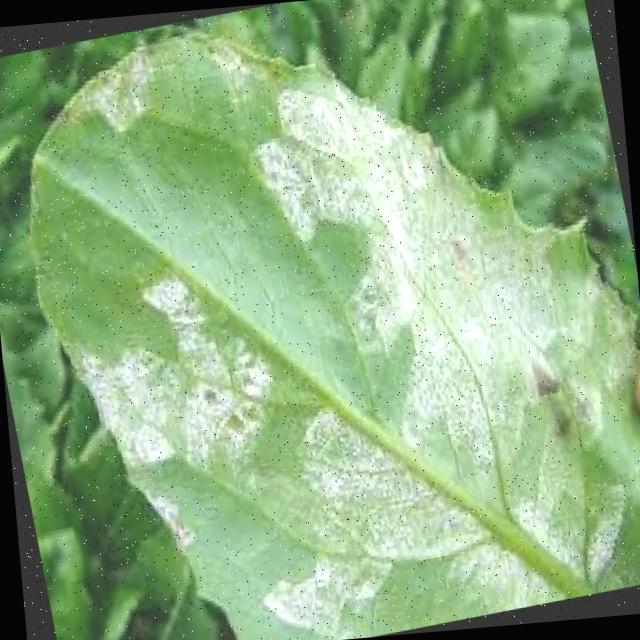Downy_Mildew: (71, 16, 635, 640)
